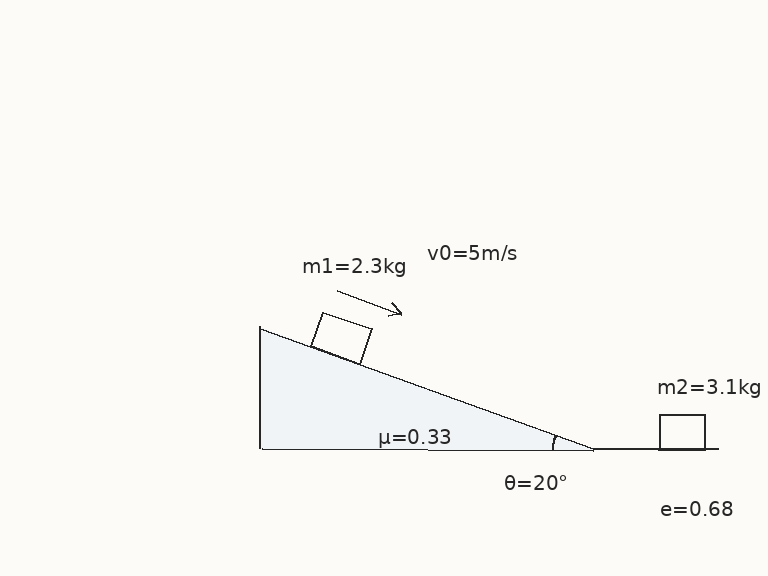block: (309, 309, 374, 366), (657, 413, 707, 451)
ramp: (258, 326, 595, 451)
